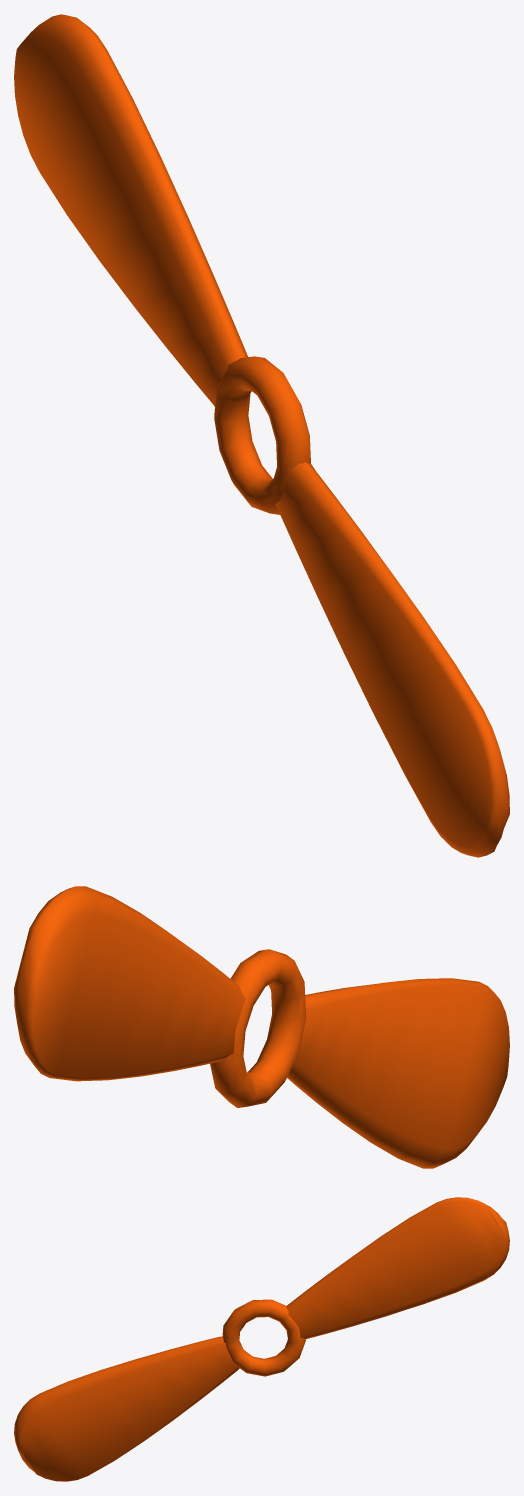
File: Moteur_5_2.FBX
3 renders of one model, top to bottom at view 1: azimuth 30°, elevation 25°; view 2: azimuth 150°, elevation 25°; view 3: azimuth 270°, elevation 25°, orthographic. The views are drawn at different scales.
Visible parts, largest first — view 1: Rectangle006; view 2: Rectangle006; view 3: Rectangle006.
Boxes of the visible parts, x1=… form: Rectangle006: x1=14, y1=14, x2=509, y2=857; Rectangle006: x1=14, y1=886, x2=509, y2=1168; Rectangle006: x1=14, y1=1197, x2=509, y2=1481.
Bounding box in the file's own units: 1.79 × 31.29 × 49.44.
